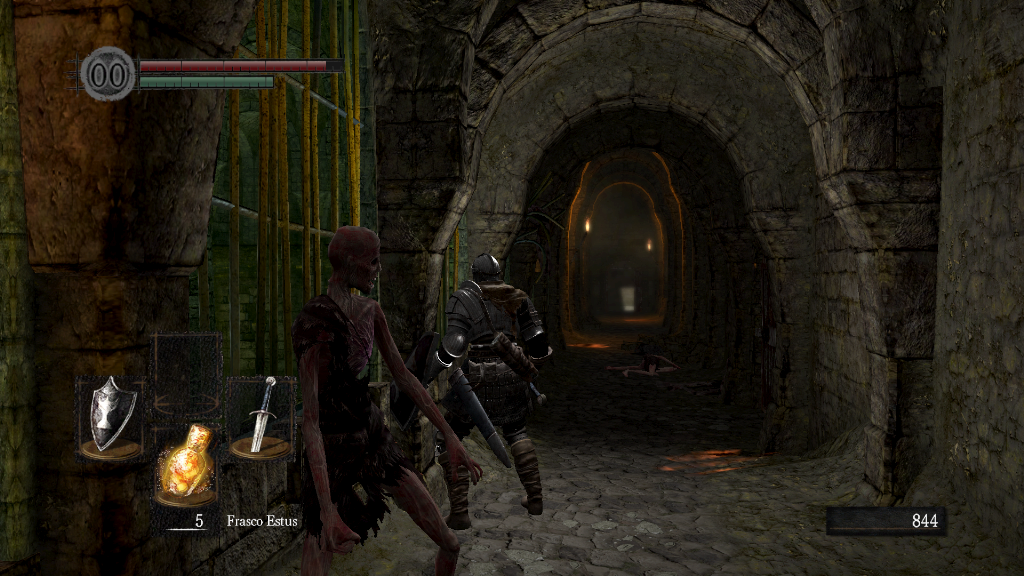health: (138, 58, 343, 71)
hollow: (290, 223, 487, 576)
humanity: (80, 45, 136, 102)
player: (390, 254, 554, 519)
souls: (825, 506, 945, 536)
stamina: (138, 74, 274, 88)
